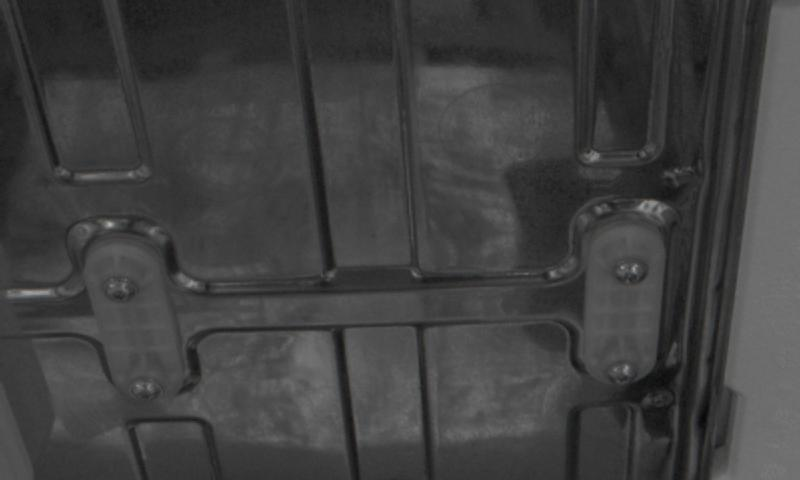vida-ok: (608, 248, 651, 293), (100, 266, 140, 311), (126, 367, 168, 407), (602, 350, 642, 388)
